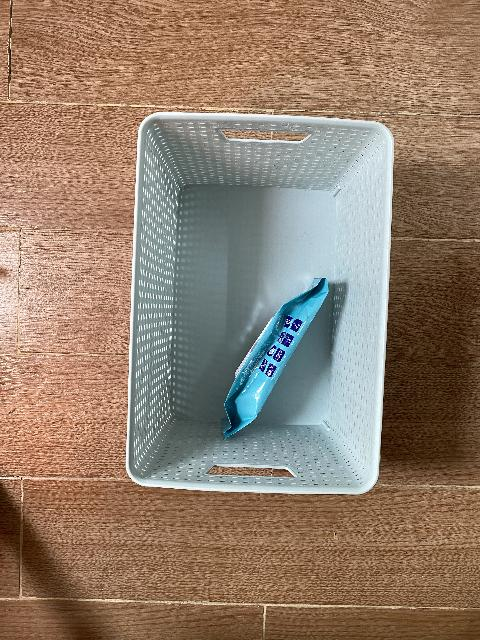Let-green_alcohol_wipes: (224, 278, 330, 439)
cart: (125, 112, 394, 497)
